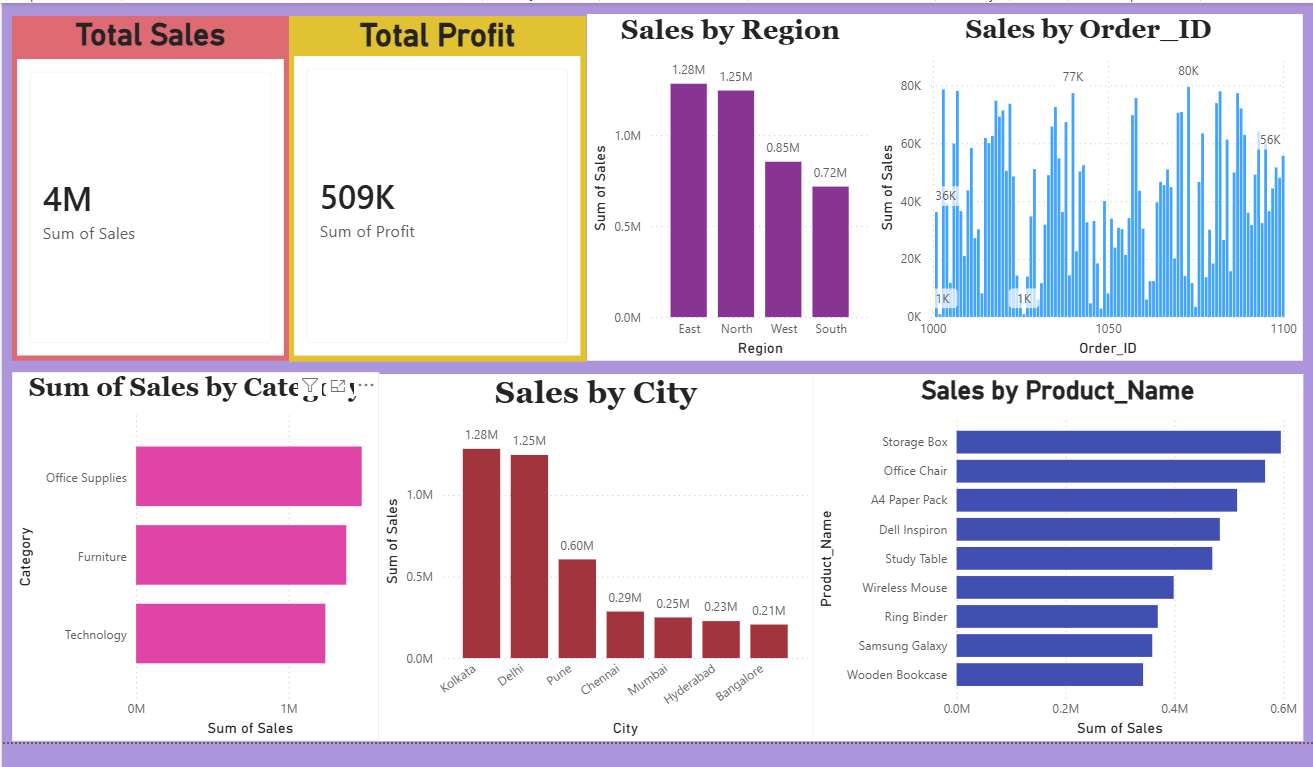

Layout of this report page (visuals, bound fields, positions):
{"tool":"powerbi","page":{"name":"Page 1","canvas":[1280,720],"ordinal":0},"visuals":[{"type":"cardVisual","title":"Total Profit","fields":{"Data":["Sum(SalesData.Profit)"]},"box":[280.1,12.6,289.8,336.5],"z":0},{"type":"cardVisual","title":"Total Sales","fields":{"Data":["Sum(SalesData.Sales)"]},"box":[9.7,12.7,270,336.3],"z":1000},{"type":"clusteredBarChart","fields":{"Category":["SalesData.Category"],"Y":["Sum(SalesData.Sales)"]},"box":[9.7,359.9,357.9,359.9],"z":2000},{"type":"clusteredColumnChart","title":"Sales by Region","fields":{"Category":["SalesData.Region"],"Y":["Sum(SalesData.Sales)"]},"box":[570,10.7,280.1,338.5],"z":3000},{"type":"lineClusteredColumnComboChart","title":" Sales by Order_ID","fields":{"Category":["SalesData.Order_ID"],"Y":["Sum(SalesData.Sales)"]},"box":[850.1,10.7,418.2,338.3],"z":4000},{"type":"clusteredColumnChart","title":"Sales by City","fields":{"Category":["SalesData.City"],"Y":["Sum(SalesData.Sales)"]},"box":[367.7,361.8,423.1,357.9],"z":5000},{"type":"clusteredBarChart","title":"Sales by Product_Name","fields":{"Category":["SalesData.Product_Name"],"Y":["Sum(SalesData.Sales)"]},"box":[790.8,361.8,477.6,357.9],"z":6000}]}

Visuals, with their boxes on the page's 1280x720 design canvas (x1, y1, x2, y2). These are canvas units, not pixel positions in the 1313x767 screenshot, which may show the page scaled, cropped or inside an application window:
"Total Profit" cardVisual: box=[280, 13, 570, 349]
"Total Sales" cardVisual: box=[10, 13, 280, 349]
clusteredBarChart - SalesData.Category x Sum(SalesData.Sales): box=[10, 360, 368, 720]
"Sales by Region" clusteredColumnChart: box=[570, 11, 850, 349]
" Sales by Order_ID" lineClusteredColumnComboChart: box=[850, 11, 1268, 349]
"Sales by City" clusteredColumnChart: box=[368, 362, 791, 720]
"Sales by Product_Name" clusteredBarChart: box=[791, 362, 1268, 720]
